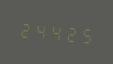five: (78, 21, 92, 47)
four: (33, 18, 47, 43), (48, 19, 62, 44)
two: (18, 16, 32, 41), (63, 20, 77, 45)
